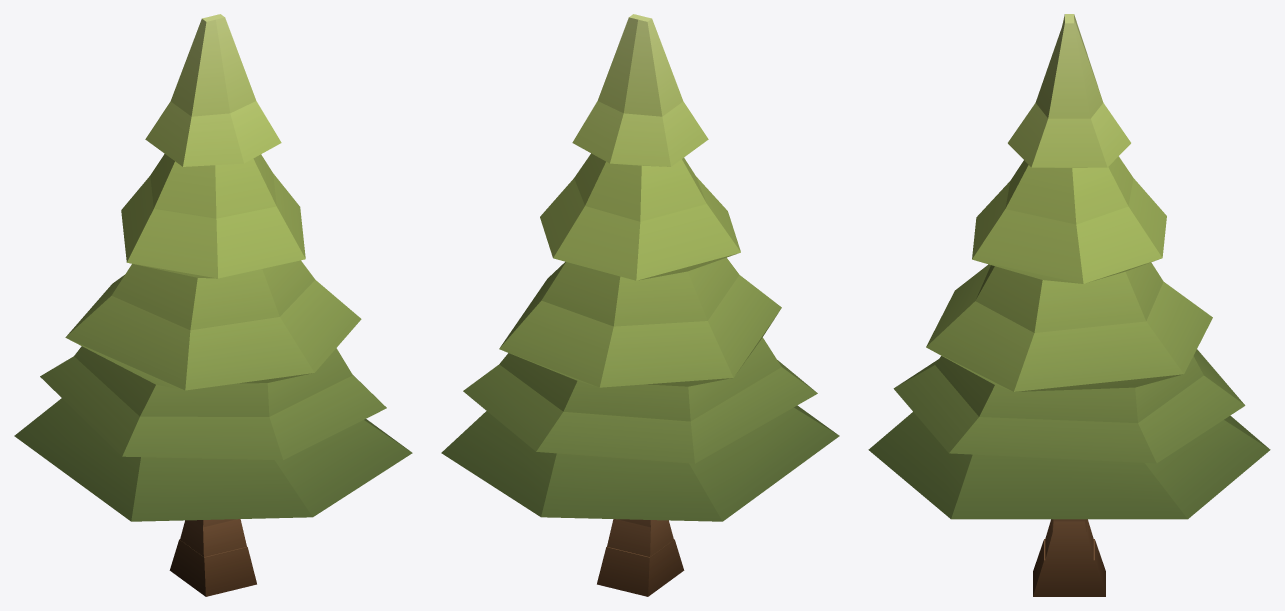
The model's file is Tree_01.fbx.
3 views of the same model, side by side, from view 1: azimuth 30°, elevation 25°; view 2: azimuth 150°, elevation 25°; view 3: azimuth 270°, elevation 25° (orthographic).
Parts seen in each view (by area): view 1: Tree_01.001, Tree_01_stump; view 2: Tree_01.001, Tree_01_stump; view 3: Tree_01.001, Tree_01_stump.
Part boxes in pixels (bbox=[...]): Tree_01.001: bbox=[14, 14, 412, 556]; Tree_01_stump: bbox=[169, 539, 256, 596]; Tree_01.001: bbox=[441, 14, 839, 556]; Tree_01_stump: bbox=[597, 539, 684, 596]; Tree_01.001: bbox=[868, 14, 1270, 560]; Tree_01_stump: bbox=[1033, 539, 1105, 596].
Bounding box in the file's own units: 285 × 542 × 349.
Materials: 1 (1 with a texture image).
